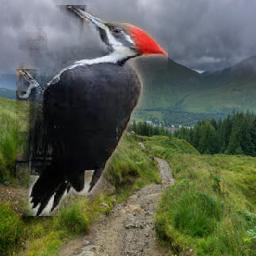Woodpecker: (16, 6, 168, 217)
